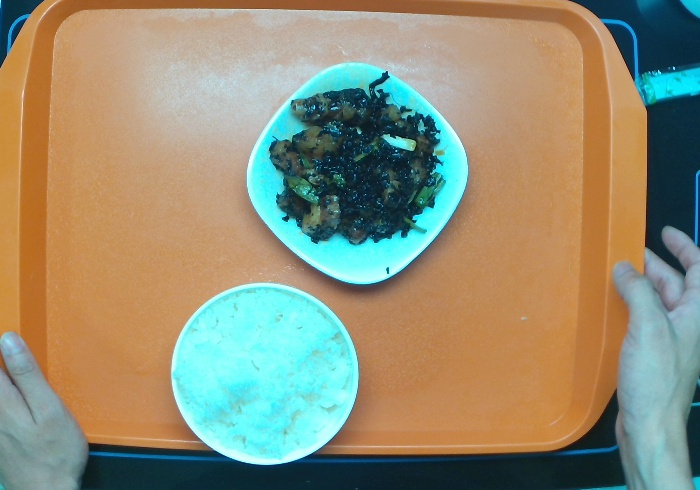ZNLD-Fan_Wan: (169, 279, 362, 470)
ZNLD-Si_Fang_Wan: (243, 59, 469, 287)
